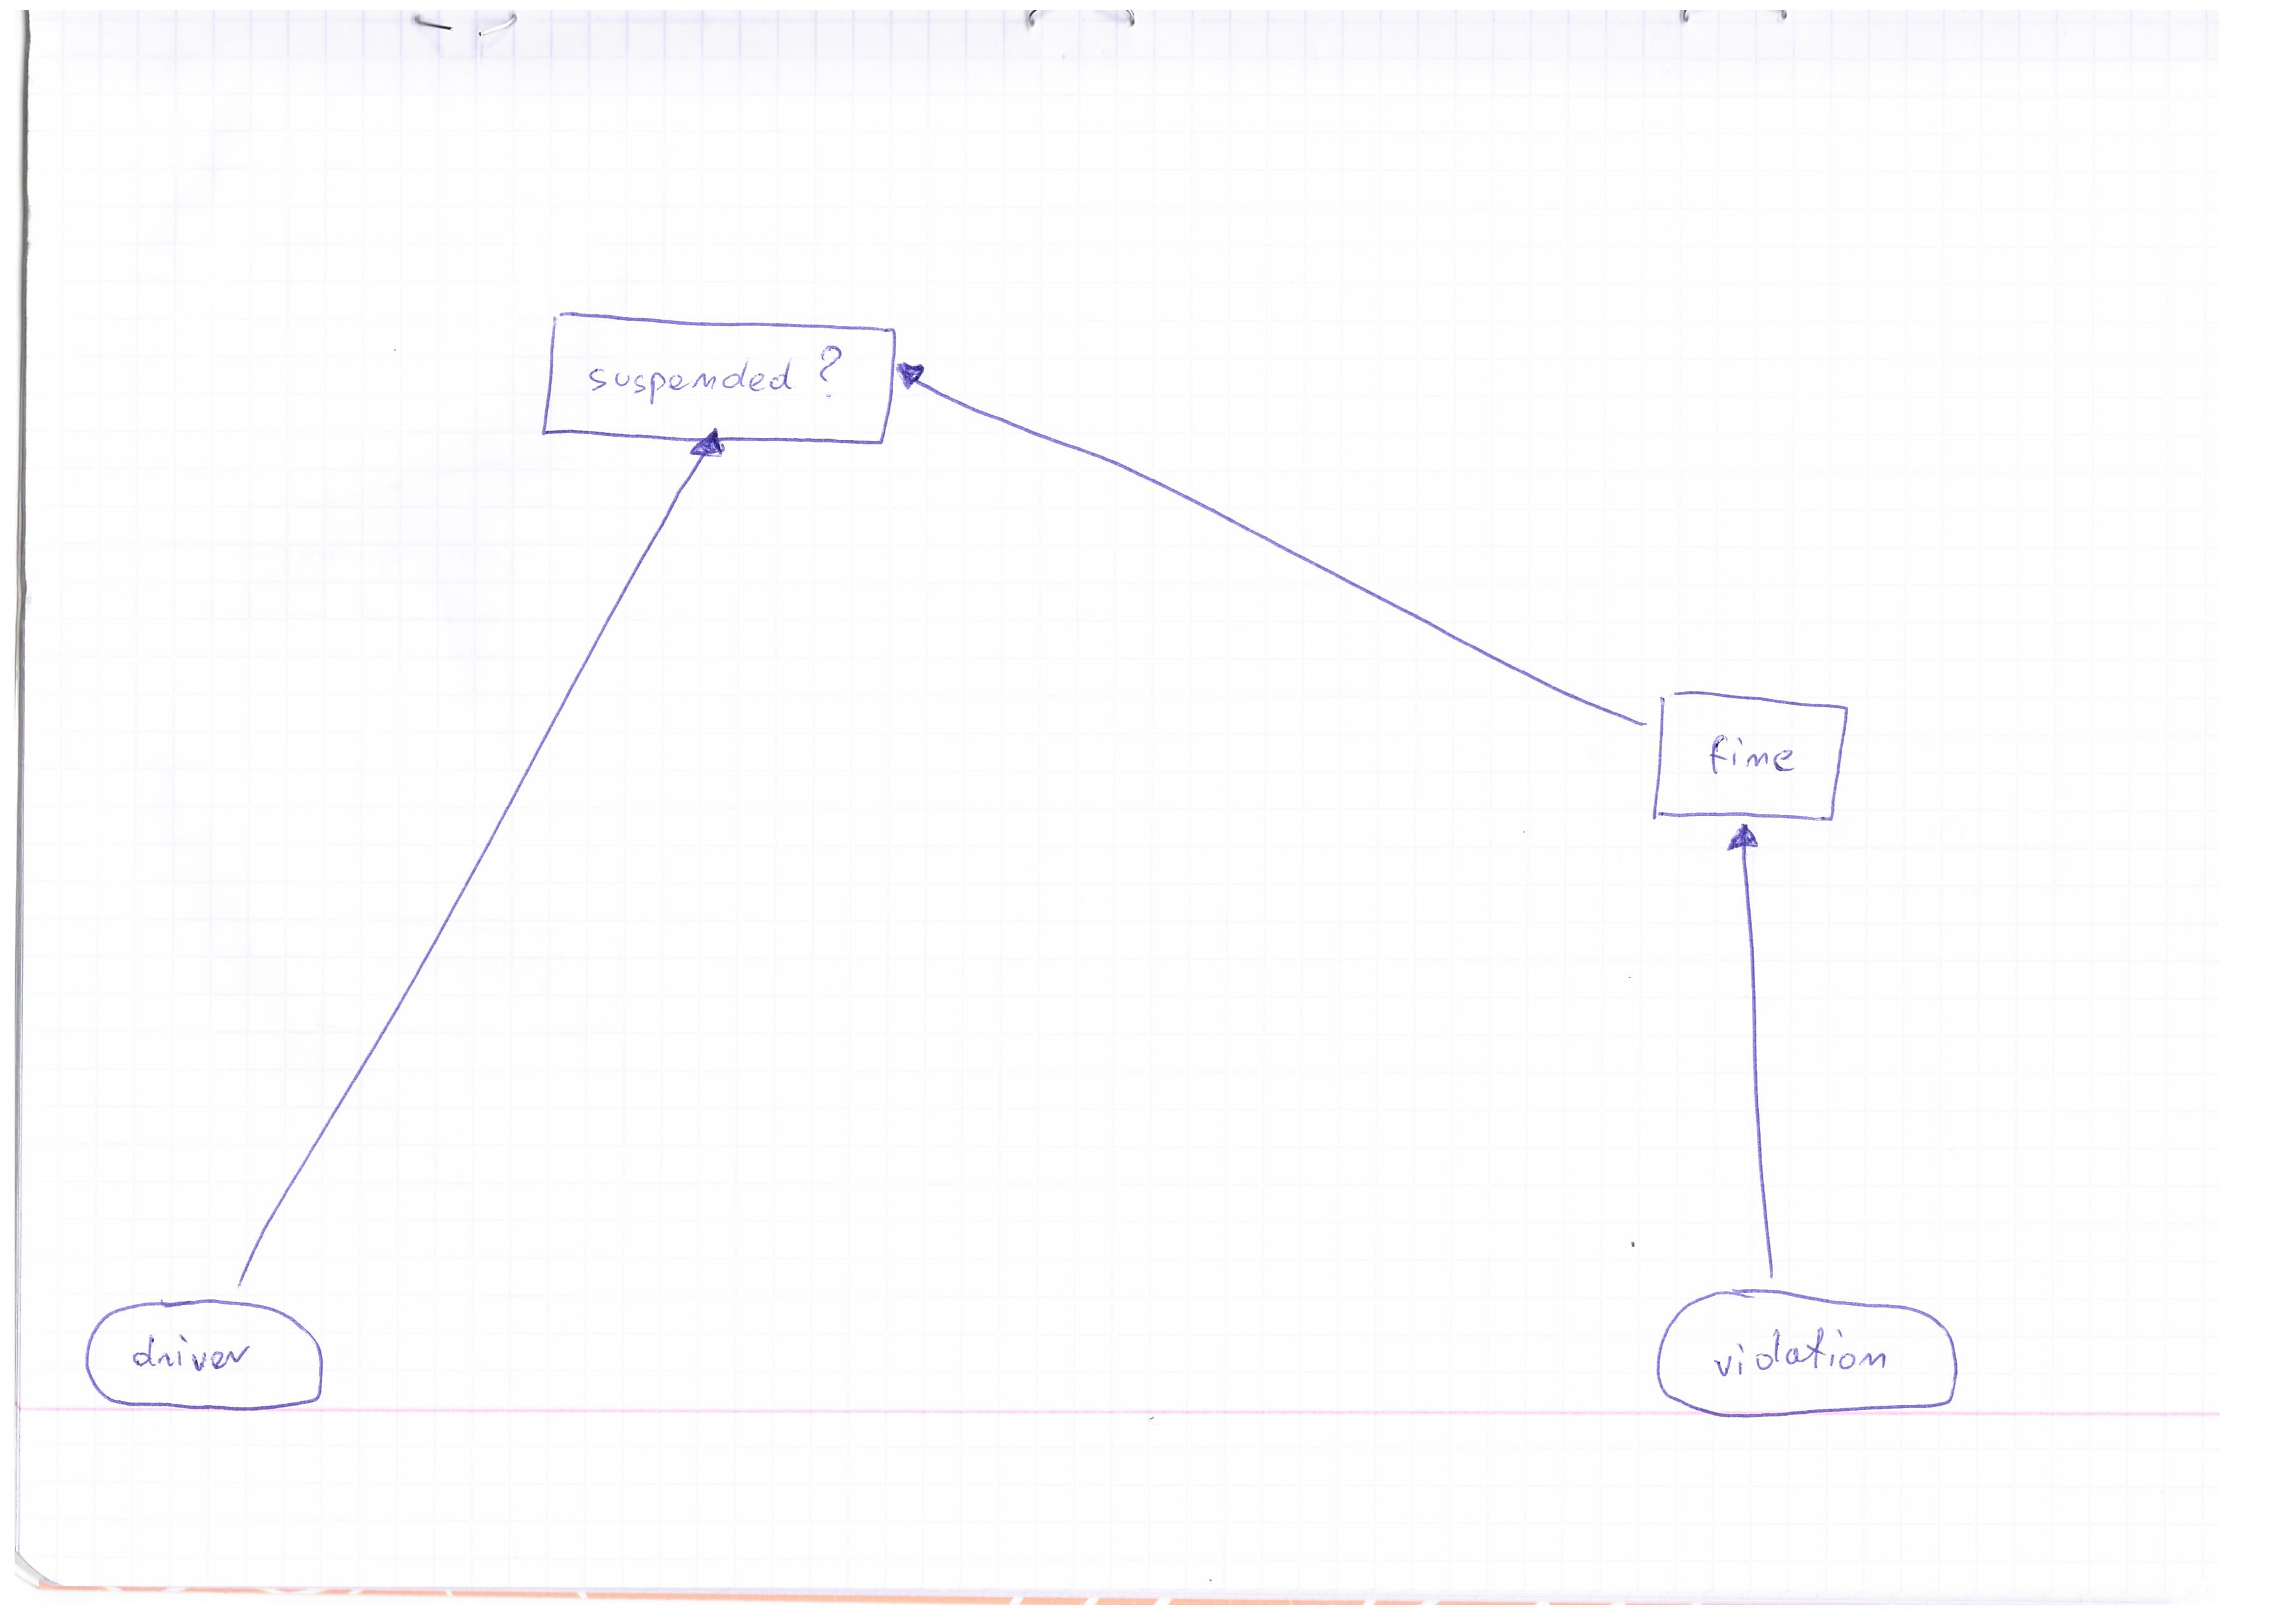arrow_information_requirement: (214, 422, 733, 1295), (886, 348, 1657, 743), (1718, 814, 1796, 1285)
node_decision: (522, 301, 900, 453), (1646, 678, 1863, 824)
node_input_data: (1646, 1280, 1984, 1425), (65, 1288, 364, 1424)
text: (582, 329, 852, 417), (1694, 1316, 1915, 1397), (114, 1316, 272, 1385), (1690, 712, 1817, 791)
